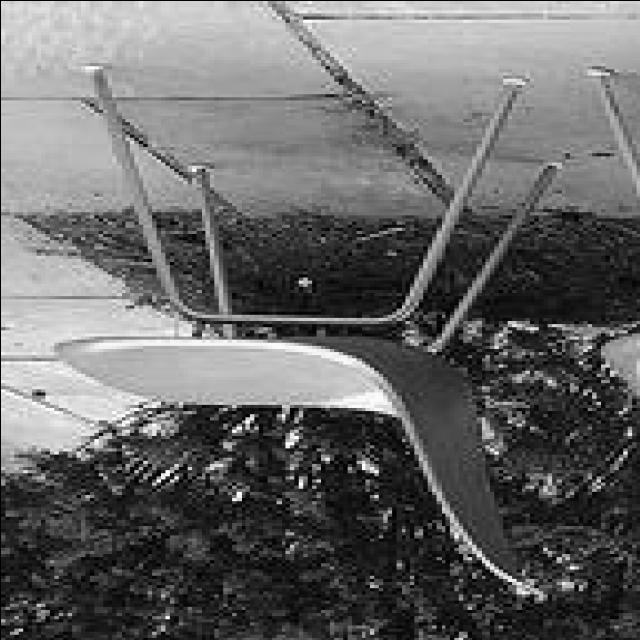chair: (41, 58, 584, 602)
